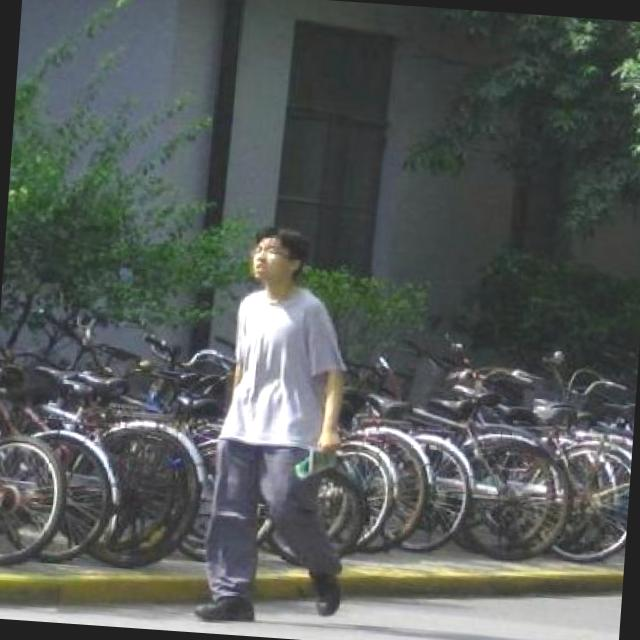Person: (183, 215, 380, 632)
